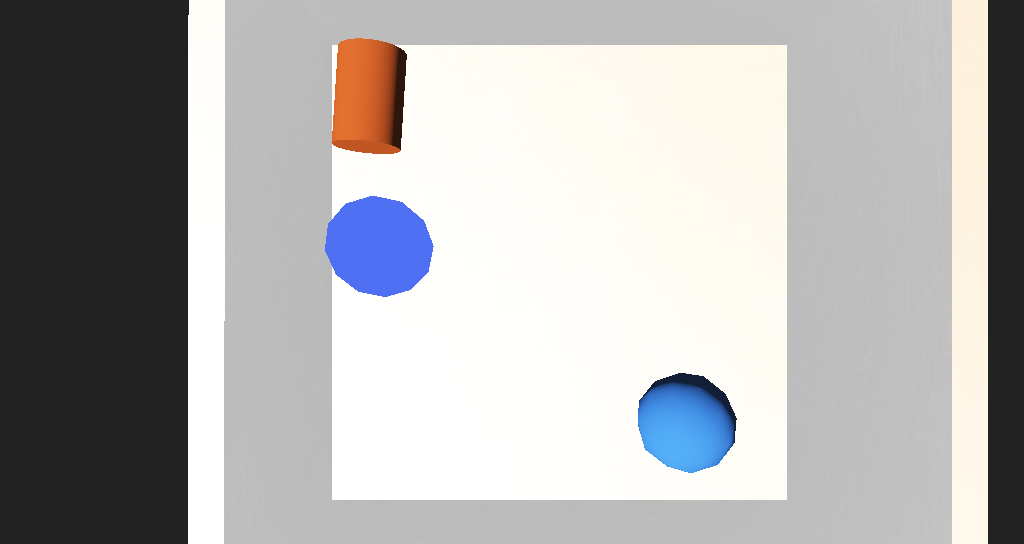cone: (350, 165, 404, 217)
cylinder: (350, 217, 431, 279)
sphere: (556, 317, 616, 360)
